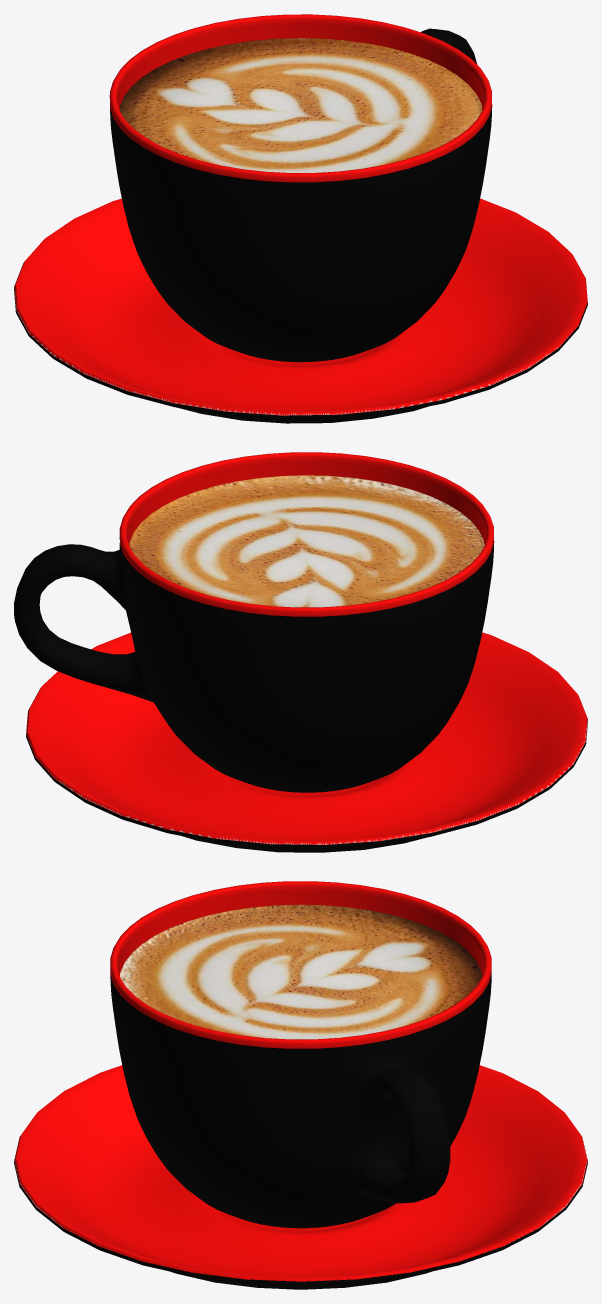
File: cuptest2.gltf
3 renders of one model, top to bottom at view 1: azimuth 30°, elevation 25°; view 2: azimuth 150°, elevation 25°; view 3: azimuth 270°, elevation 25°, orthographic. The views are drawn at different scales.
Parts seen in each view (by area): view 1: cup, pisin, liquid; view 2: cup, pisin, liquid; view 3: cup, pisin, liquid.
Boxes of the visible parts, x1,y1,x2,y2 form: cup: (109, 14, 492, 362); pisin: (14, 198, 587, 423); liquid: (119, 38, 482, 172); cup: (14, 452, 494, 792); pisin: (26, 632, 587, 852); liquid: (129, 475, 484, 607); cup: (110, 881, 491, 1228); pisin: (14, 1065, 587, 1289); liquid: (120, 904, 481, 1039).
Bounding box in the file's own units: 2.94 × 1.37 × 2.94.
Materials: 3 (3 with a texture image).
